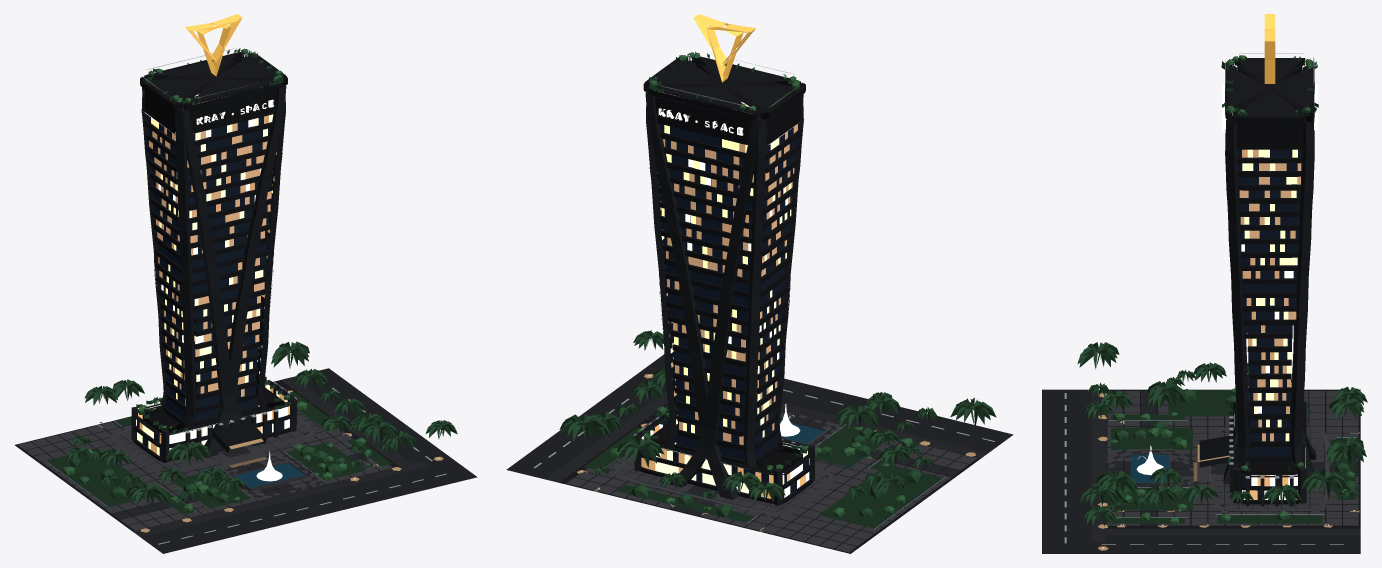
File: kray-tower-lod1.glb
The picture shows the model from 3 angles, left to right: view 1: azimuth 30°, elevation 25°; view 2: azimuth 150°, elevation 25°; view 3: azimuth 270°, elevation 25°; orthographic projection. The views are drawn at different scales.
Visible parts, largest first — view 1: Kray_Tower, Kray_Site, Kray_Sign_Plate, KRAY_CROWN_ICON, Kray_Roof_Garden, Site_Basin; view 2: Kray_Tower, Kray_Site, Kray_Sign_Plate, KRAY_CROWN_ICON, Kray_Roof_Garden, Site_Basin; view 3: Kray_Site, Kray_Tower, Kray_Roof_Garden, Site_Basin, KRAY_CROWN_ICON.
Boxes of the visible parts, <box> form: Kray_Tower: <box>131,48,296,462</box>; Kray_Site: <box>15,341,477,553</box>; Kray_Sign_Plate: <box>192,78,275,133</box>; KRAY_CROWN_ICON: <box>185,14,242,76</box>; Kray_Roof_Garden: <box>136,48,291,433</box>; Site_Basin: <box>232,461,306,491</box>; Kray_Tower: <box>633,55,814,505</box>; Kray_Site: <box>506,330,1013,553</box>; Kray_Sign_Plate: <box>657,84,748,144</box>; KRAY_CROWN_ICON: <box>693,14,755,82</box>; Kray_Roof_Garden: <box>642,51,808,473</box>; Site_Basin: <box>780,418,826,446</box>; Kray_Site: <box>1042,342,1367,553</box>; Kray_Tower: <box>1197,53,1316,506</box>; Kray_Roof_Garden: <box>1221,55,1318,472</box>; Site_Basin: <box>1131,453,1170,486</box>; KRAY_CROWN_ICON: <box>1264,14,1275,83</box>.
Bounding box in the file's own units: 310 × 379 × 252.
